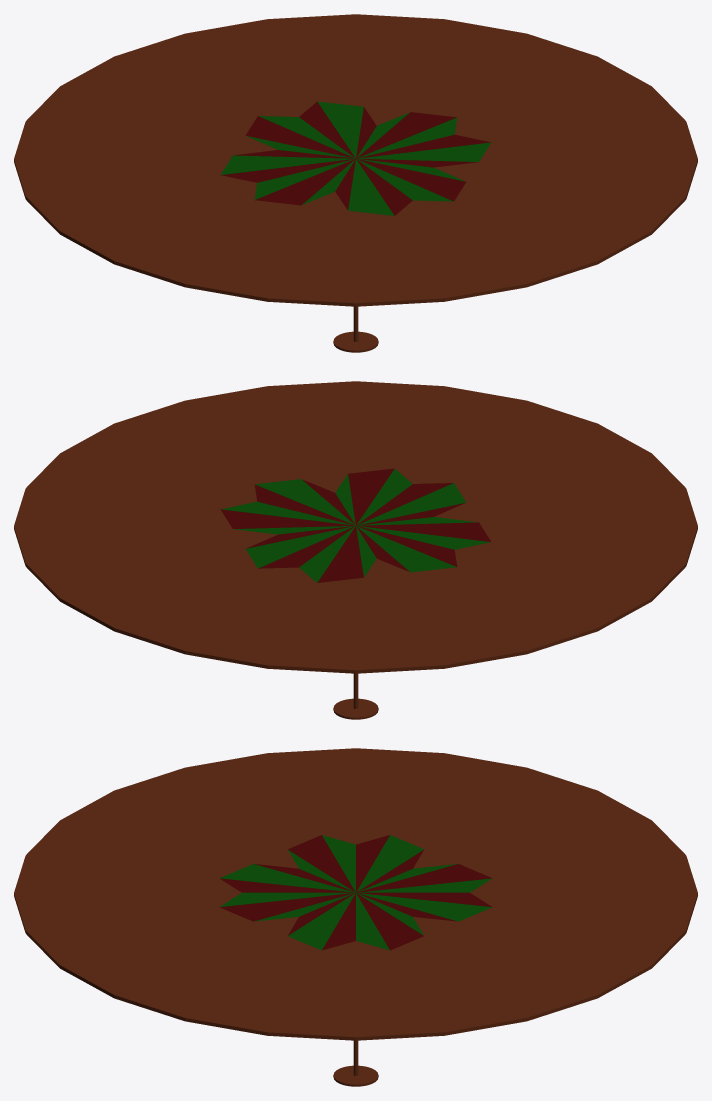
File: table.glb
The picture shows the model from 3 angles, top to bottom: view 1: azimuth 30°, elevation 25°; view 2: azimuth 150°, elevation 25°; view 3: azimuth 270°, elevation 25°; orthographic projection.
Visible parts, largest first — view 1: Table; view 2: Table; view 3: Table.
Part boxes in pixels (bbox=[...]): Table: bbox=[14, 14, 697, 352]; Table: bbox=[14, 381, 697, 719]; Table: bbox=[14, 748, 697, 1086].
Bounding box in the file's own units: 18 × 5.36 × 18.
